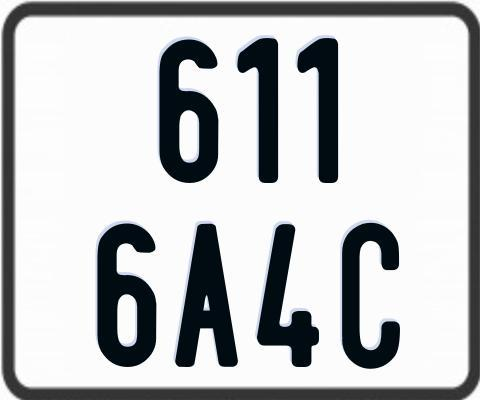1: (235, 37, 276, 187), (294, 37, 335, 184)
4: (255, 221, 322, 369)
6: (159, 37, 224, 183), (97, 221, 160, 368)
A: (172, 223, 239, 370)
C: (340, 220, 400, 366)
